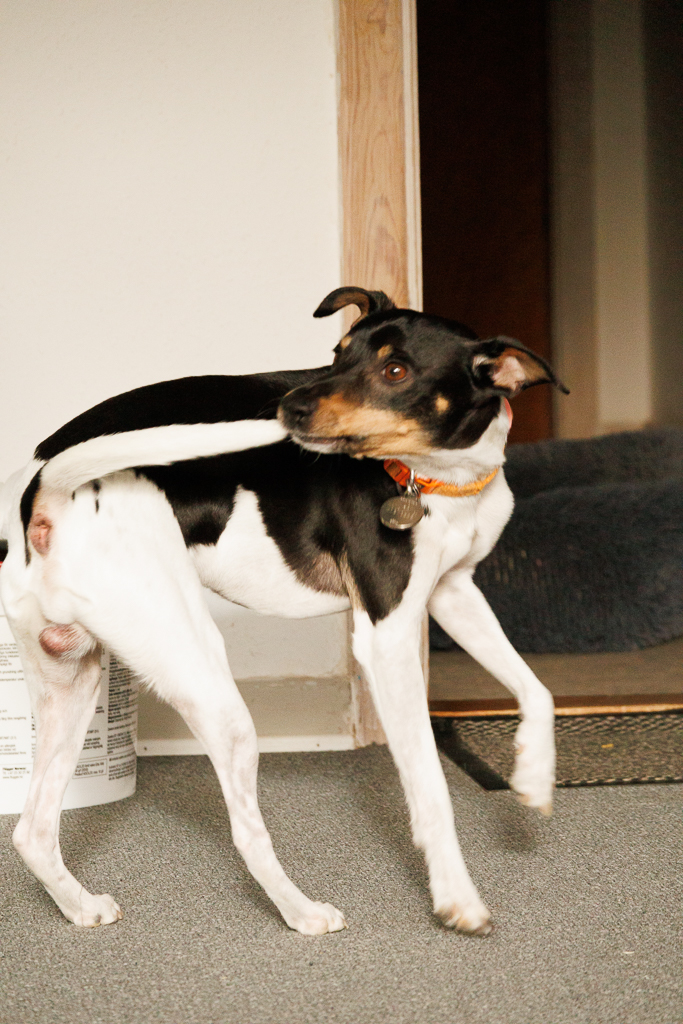Dog: (0, 275, 583, 957)
